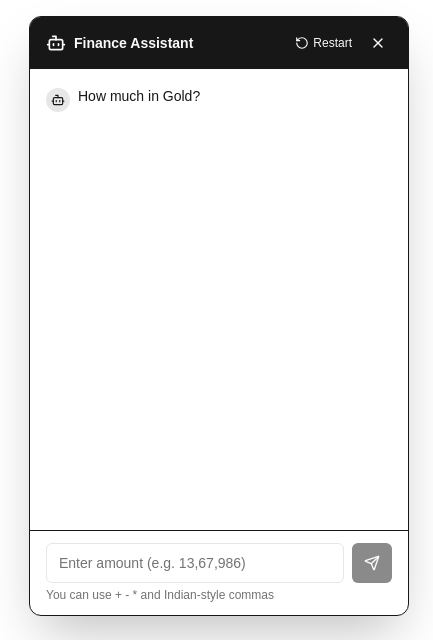
FinanceAssistantChat Input Validation › should show error when gold exceeds total stocks
Expected: the text "How much in Gold?" is shown, left=78, top=88, right=200, bottom=104
Type "15,00,000" into the field with placeholder "Enter amount (e.g. 13,67,986)".
click(195, 563); type("15,00,000")  # box left=46, top=543, right=344, bottom=583
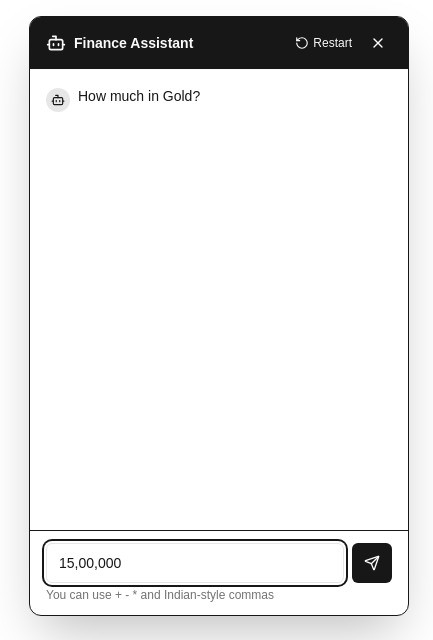
Press Enter
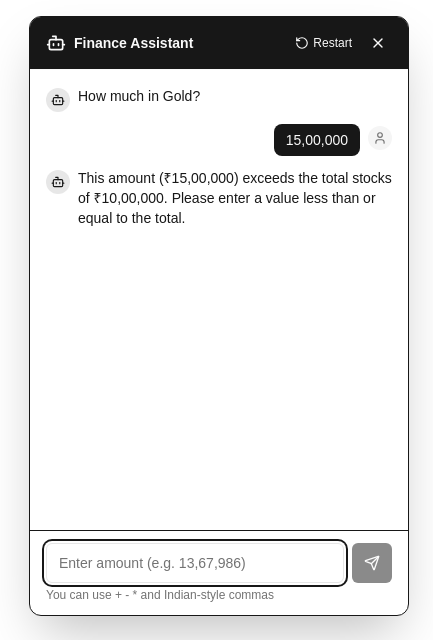
Now the text "exceeds the total stocks" is shown, box left=78, top=170, right=392, bottom=226
